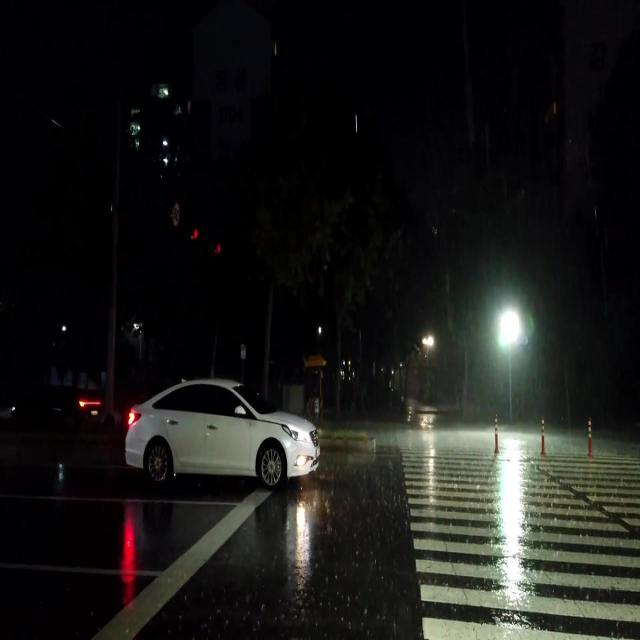Car: (123, 374, 316, 491)
